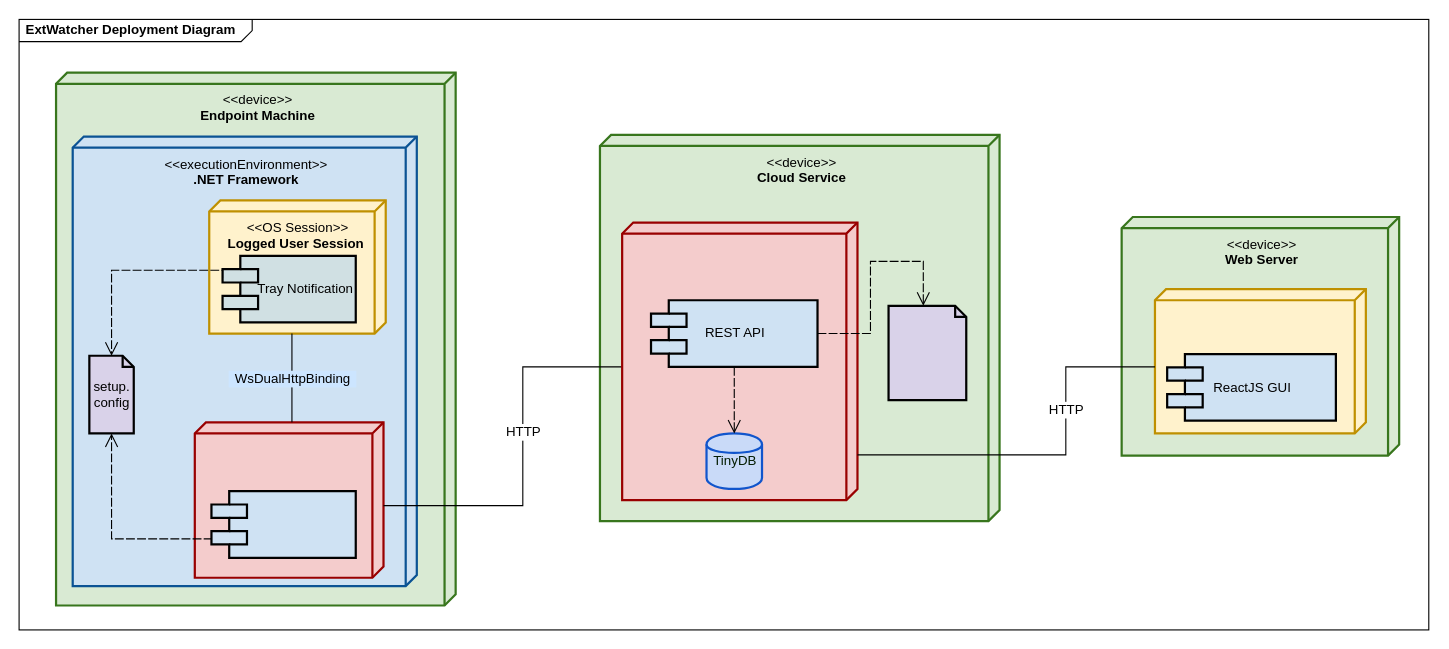
The diagram is 1449 pixels wide and 649 high, and some of its shapes have lost their labels. Here are the shapes that lost their labels. From the top down, the box of each, then its label:
(620, 221, 858, 501): <<executionEnvironment>> Flask WSGI
(887, 304, 967, 401): ML _Model.sav
(1153, 287, 1366, 434): <<executionEnvironment>> Node.js
(193, 421, 384, 578): <<OS Session>> Session 0
(210, 490, 356, 558): Windows Service
